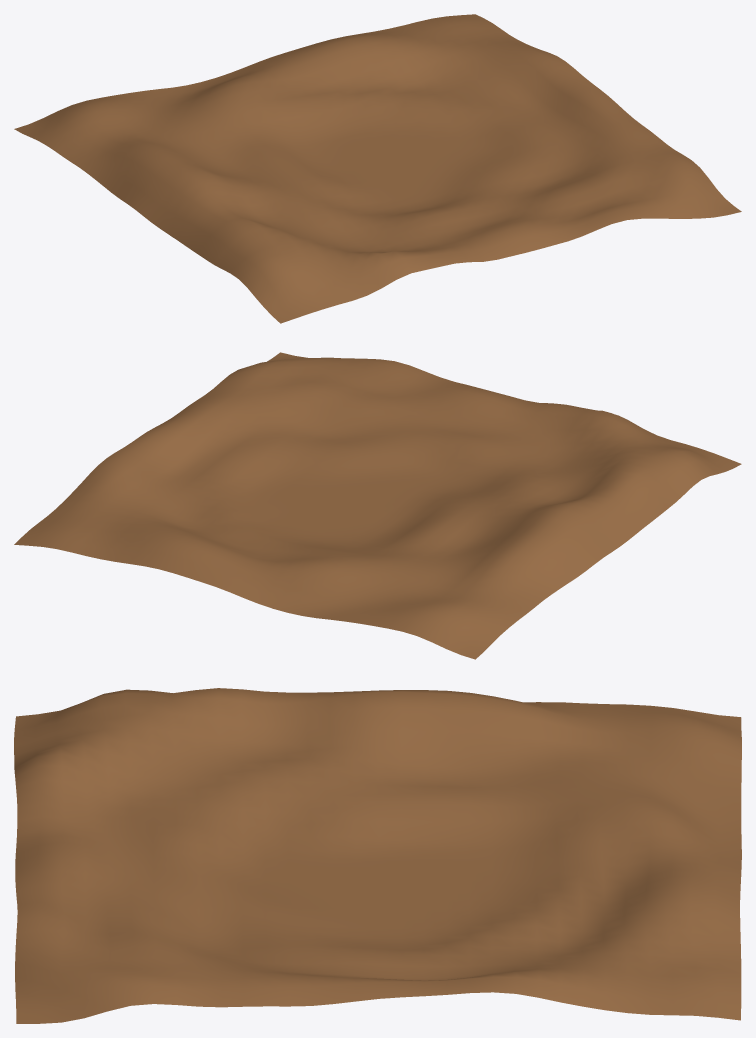
3 renders of one model, top to bottom at view 1: azimuth 30°, elevation 25°; view 2: azimuth 150°, elevation 25°; view 3: azimuth 270°, elevation 25°, orthographic. The views are drawn at different scales.
Visible parts, largest first — view 1: Plane; view 2: Plane; view 3: Plane.
Boxes of the visible parts, box(x1,y1,x2,y2) form: Plane: box(14, 14, 741, 323); Plane: box(14, 352, 741, 659); Plane: box(14, 688, 741, 1023).
Size of the model in its own units: 44159 by 3623 by 43962.
